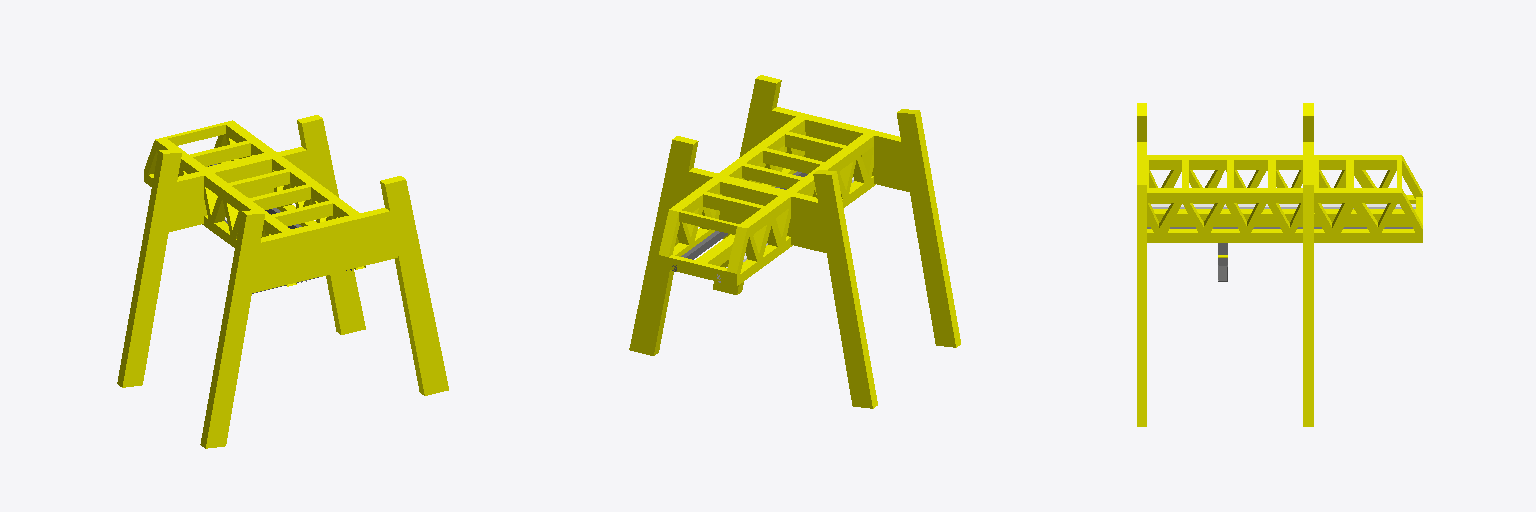
Rendered from railcrane.obj.
3 views of the same model, side by side, from view 1: azimuth 30°, elevation 25°; view 2: azimuth 150°, elevation 25°; view 3: azimuth 270°, elevation 25° (orthographic).
Parts seen in each view (by area): view 1: polySurface248 polySurface125; view 2: polySurface248 polySurface125; view 3: polySurface248 polySurface125.
Boxes of the visible parts, x1=… form: polySurface248 polySurface125: x1=117, y1=115, x2=448, y2=448; polySurface248 polySurface125: x1=629, y1=75, x2=960, y2=408; polySurface248 polySurface125: x1=1137, y1=103, x2=1422, y2=426.
Size of the model in its own units: 3.89 by 3.46 by 3.95.